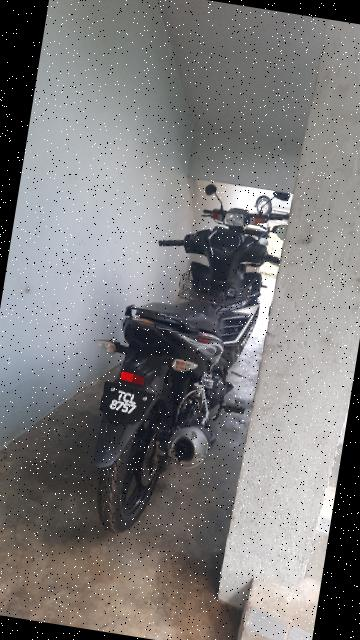License_Plate: (96, 379, 158, 430)
motorcycle: (60, 201, 282, 555)
